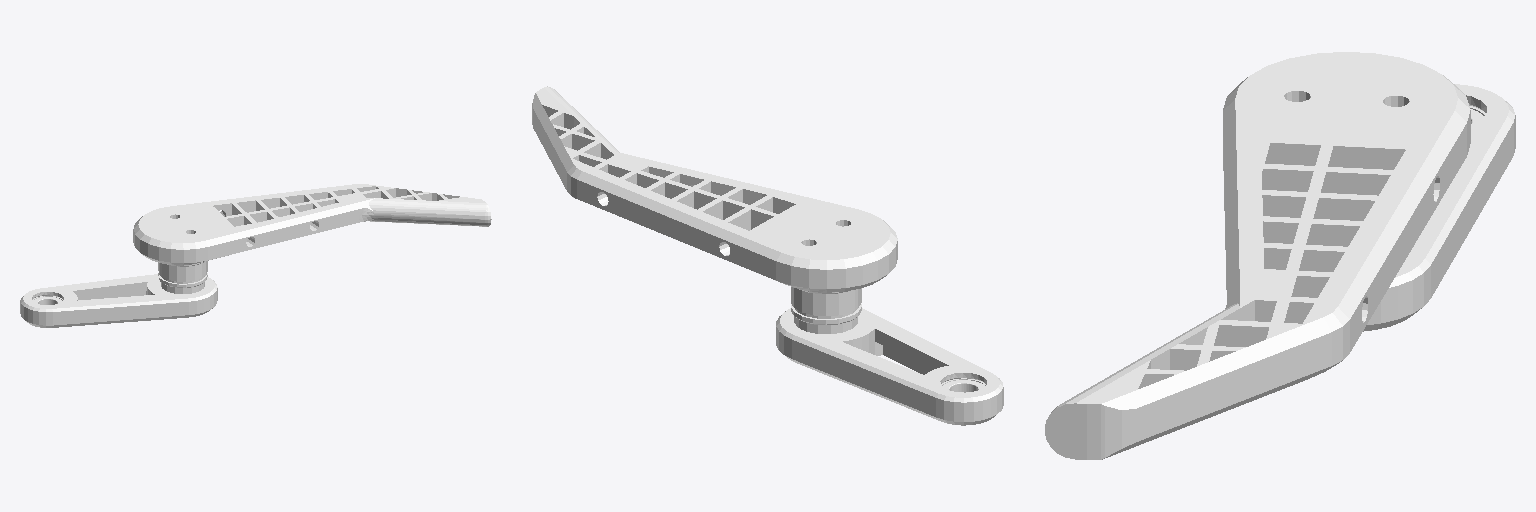
The robot description file, URDF, robot "机械猫3.3仿真1.1.SLDASM":
<?xml version="1.0" encoding="utf-8"?>
<!-- This URDF was automatically created by SolidWorks to URDF Exporter! Originally created by Stephen Brawner (brawner@gmail.com) 
     Commit Version: 1.6.0-4-g7f85cfe  Build Version: 1.6.7995.38578
     For more information, please see http://wiki.ros.org/sw_urdf_exporter -->
<robot
  name="机械猫3.3仿真1.1.SLDASM">
  <link
    name="link5">
    <inertial>
      <origin
        xyz="0.0158746642815336 -0.00253106565246303 0.0126662508807684"
        rpy="0 0 0" />
      <mass
        value="0.054427305806412" />
      <inertia
        ixx="1.0290649290915E-05"
        ixy="1.43519024772787E-05"
        ixz="-3.20858752999666E-06"
        iyy="6.47023962174502E-05"
        iyz="6.09609512979188E-07"
        izz="7.08569318055505E-05" />
    </inertial>
    <visual>
      <origin
        xyz="0 0 0"
        rpy="0 0 0" />
      <geometry>
        <mesh
          filename="package://机械猫3.3仿真1.1.SLDASM/meshes/link5.STL" />
      </geometry>
      <material
        name="">
        <color
          rgba="1 1 1 1" />
      </material>
    </visual>
    <collision>
      <origin
        xyz="0 0 0"
        rpy="0 0 0" />
      <geometry>
        <mesh
          filename="package://机械猫3.3仿真1.1.SLDASM/meshes/link5.STL" />
      </geometry>
    </collision>
  </link>
</robot>

--- What the picture shows (computed from the rendered views, not written in the file) ---
3 views of the same robot in one strip: view 1: azimuth 30°, elevation 25°; view 2: azimuth 150°, elevation 25°; view 3: azimuth 270°, elevation 25° (orthographic).
Model 机械猫3.3仿真1.1.SLDASM with 1 links and 0 joints (none), rooted at link5, posed all joints at 0.
Links seen in each view (by area): view 1: link5; view 2: link5; view 3: link5.
Boxes of the visible links, x1,y1,x2,y2 form: link5: (20, 184, 491, 327); link5: (532, 86, 1003, 425); link5: (1045, 52, 1515, 459).
Size in the robot's own frame: 0.1812 by 0.076 by 0.036 metres.
1 mesh visuals loaded from 1 distinct referenced files (1 binary STL).
